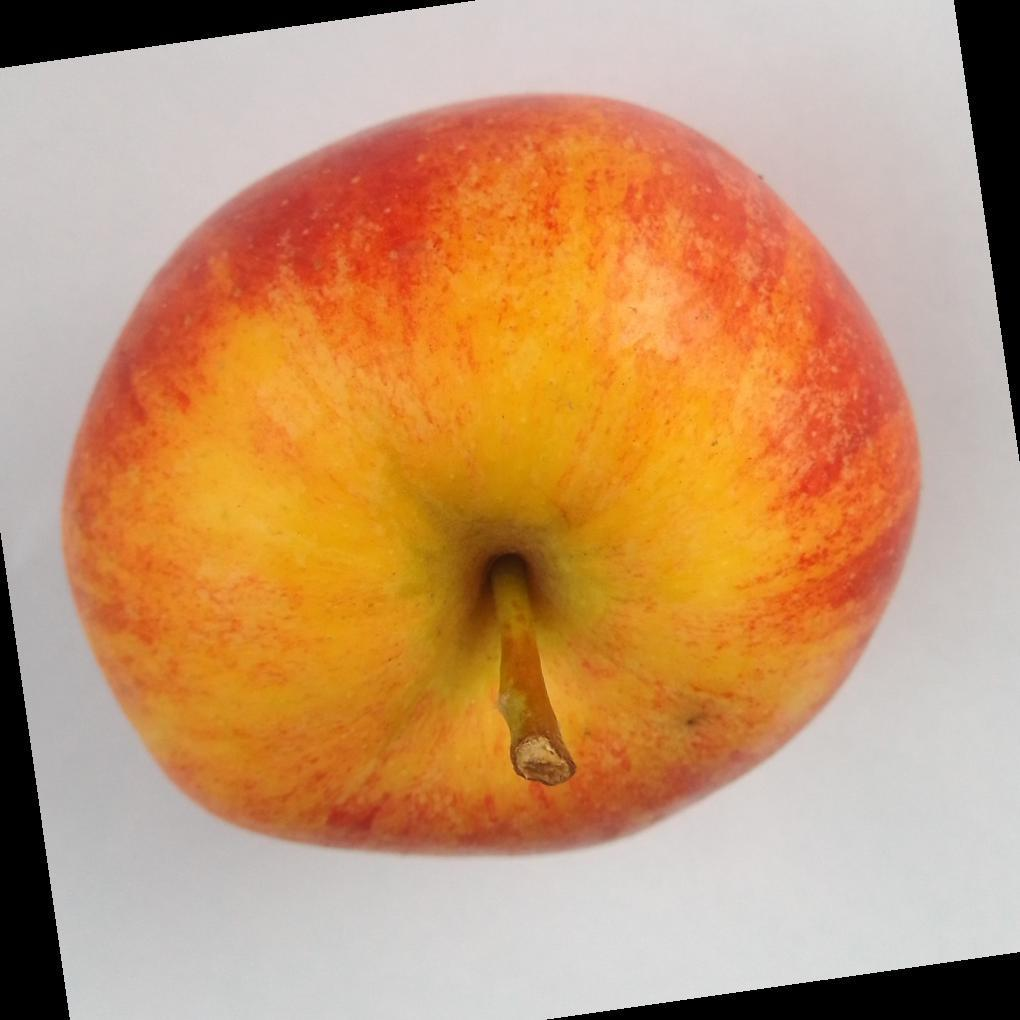FreshGuava: (58, 95, 922, 859)
